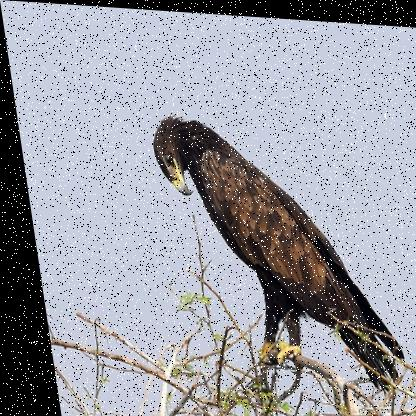Burung: (143, 108, 399, 398)
